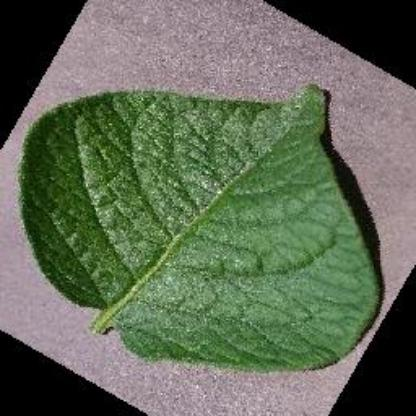Healthy-plant: (0, 6, 386, 414)
